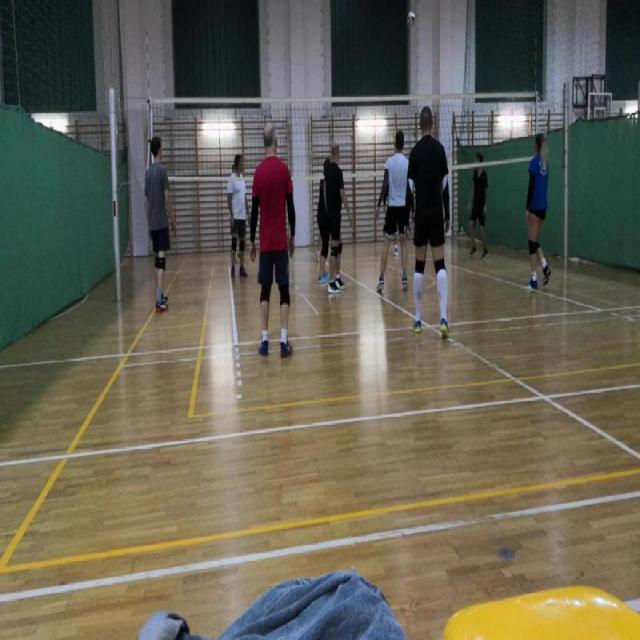volleyball: (407, 10, 415, 25)
